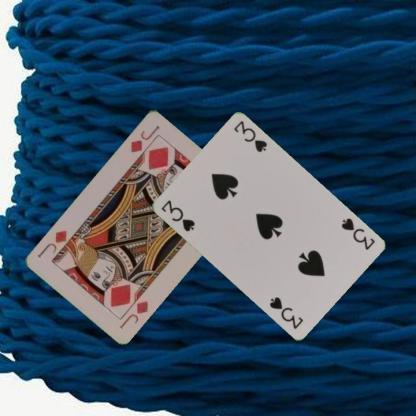3s: (338, 215, 376, 252), (158, 197, 196, 233)
Jd: (127, 122, 162, 154), (116, 298, 150, 330)
